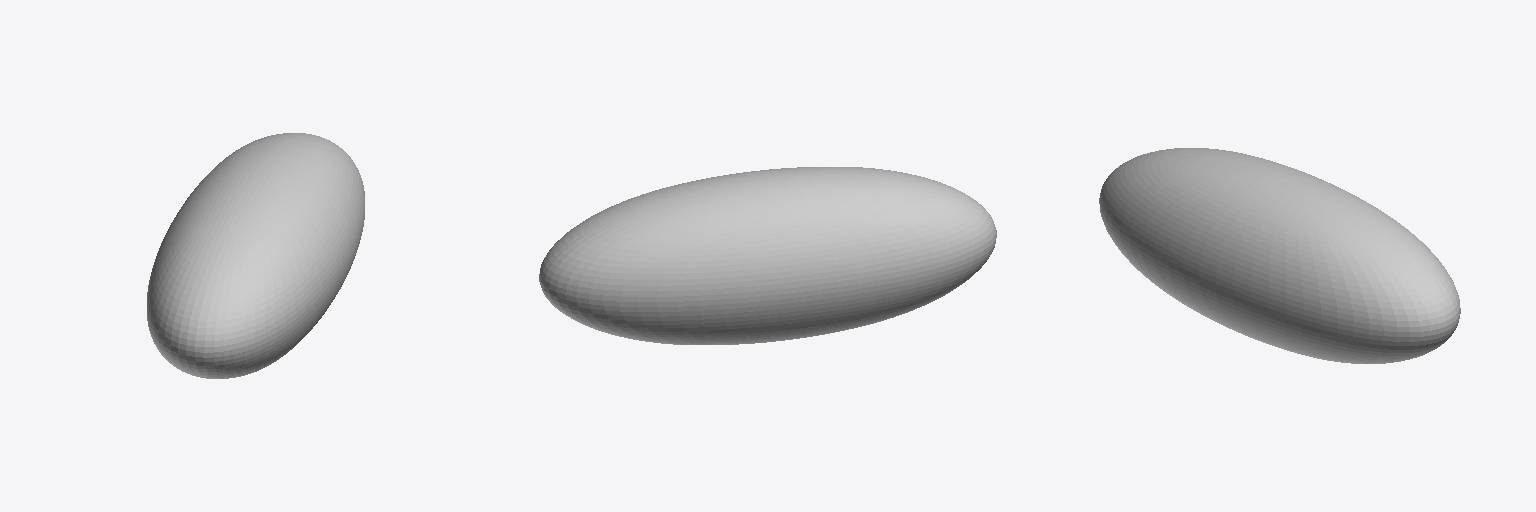
File: nudo2-1.obj
The picture shows the model from 3 angles: view 1: azimuth 30°, elevation 25°; view 2: azimuth 150°, elevation 25°; view 3: azimuth 270°, elevation 25°; orthographic projection.
Parts seen in each view (by area): view 1: nudo2_1_Mesh; view 2: nudo2_1_Mesh; view 3: nudo2_1_Mesh.
Part boxes in pixels (x1,y1,x2,y2): nudo2_1_Mesh: (147,133,364,378); nudo2_1_Mesh: (539,167,996,344); nudo2_1_Mesh: (1099,148,1460,363).
Bounding box in the file's own units: 0.8203 × 0.3825 × 0.8203.